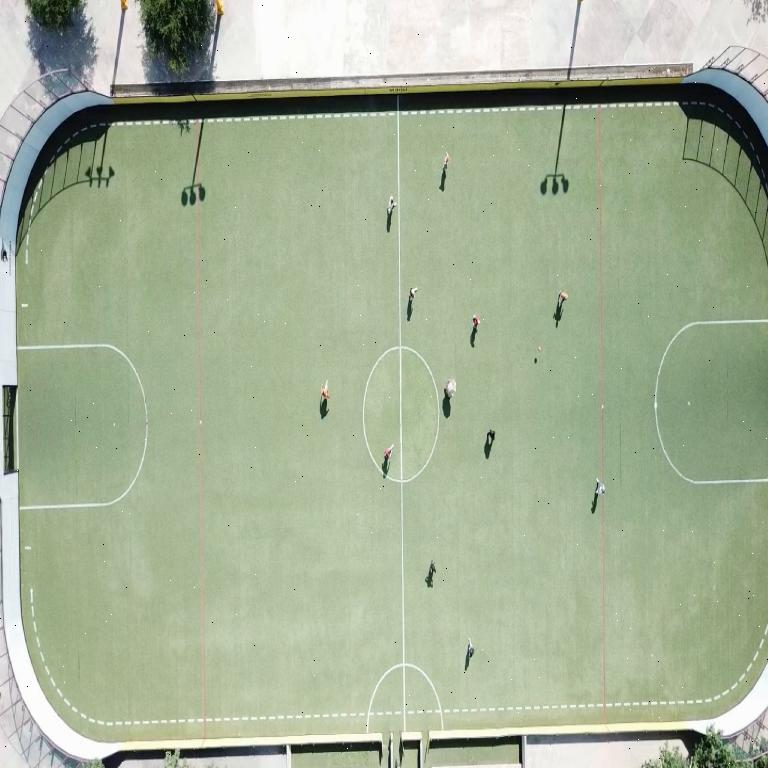AC: (18, 344, 147, 509), (654, 319, 767, 485)
B: (538, 346, 542, 351)
MC: (397, 212, 405, 731)
P: (445, 379, 457, 400), (467, 638, 475, 666), (386, 197, 395, 216), (320, 380, 328, 401), (559, 291, 568, 308), (384, 444, 392, 462), (486, 428, 496, 442), (427, 560, 437, 573), (596, 479, 604, 495), (442, 153, 449, 170), (472, 315, 479, 330), (409, 287, 416, 301)
